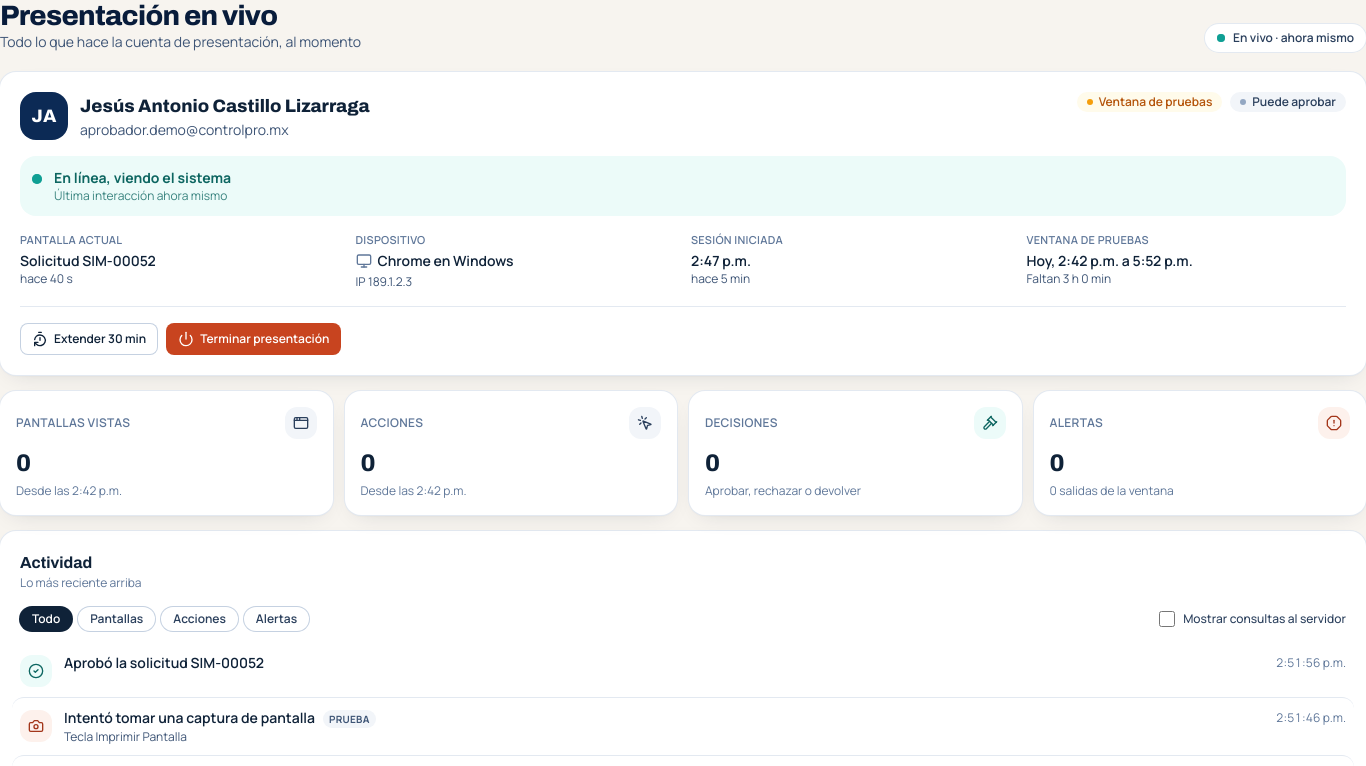
it: presentación en vivo › el filtro de alertas deja solo los intentos
This screenshot has width=1366, height=766.
Click the button "Alertas" at [276, 618], box [244,606,309,630]
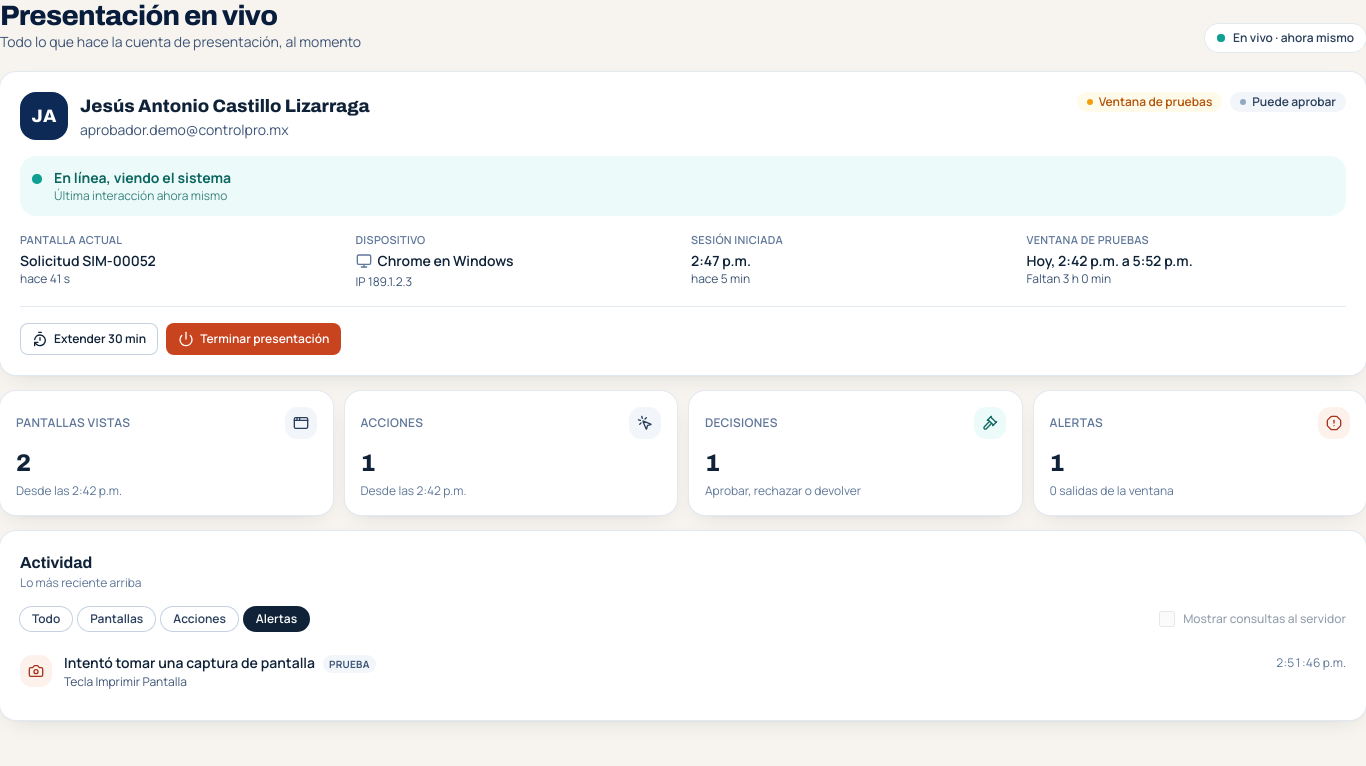
Expected: the text "Intentó tomar una captura de pantalla" is shown, [64,652,315,672]
Expected: the text "Aprobó la solicitud SIM-00052" is gone
